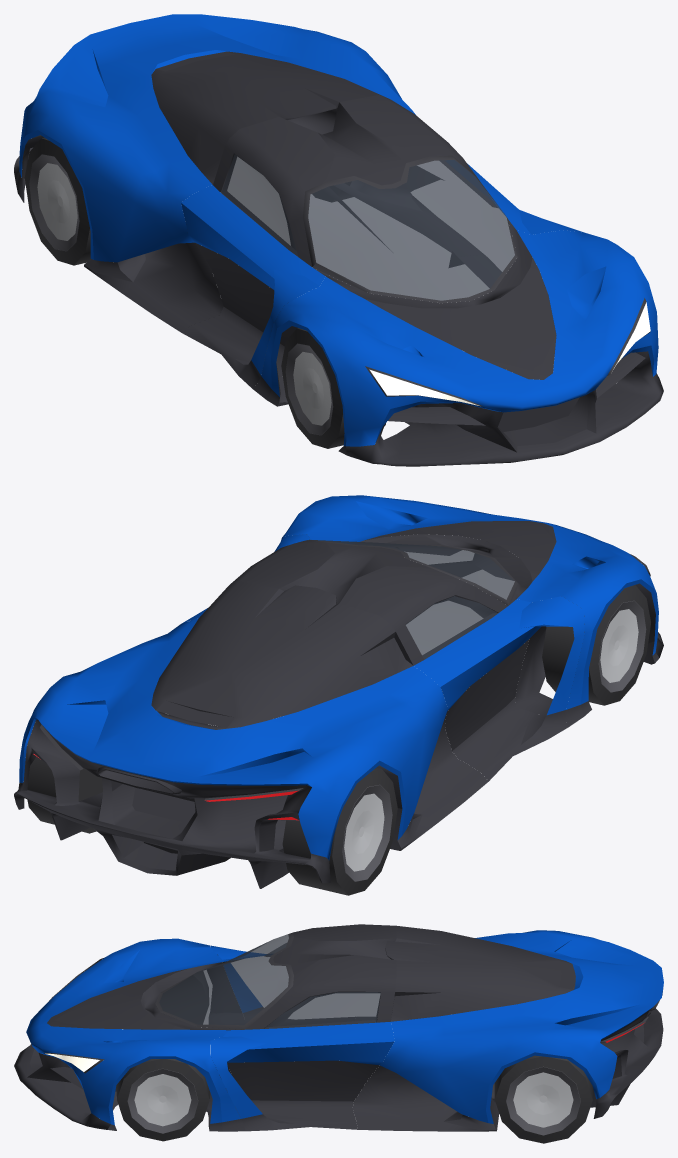
Rendered from zenvo.glb.
3 renders of one model, top to bottom at view 1: azimuth 30°, elevation 25°; view 2: azimuth 150°, elevation 25°; view 3: azimuth 270°, elevation 25°, orthographic. The views are drawn at different scales.
Visible parts, largest first — view 1: paint, body, glass, trim, tyre_RR, rim_metal_RR, tyre_FR, rim_metal_FR, headlights, rim_dark_RR, rim_dark_FR; view 2: body, paint, glass, tyre_RR, tyre_FR, rim_metal_RR, rim_metal_FR, tyre_RL, trim, rim_dark_RR, rim_dark_FR; view 3: body, paint, glass, tyre_RL, tyre_FL, rim_metal_RL, rim_metal_FL, tyre_FR, rim_dark_RL, trim, rim_dark_FL, headlights.
Part boxes in pixels (x1,y1,x2,y2): paint: [19, 14, 658, 446]; body: [14, 51, 663, 466]; glass: [221, 154, 514, 300]; trim: [303, 155, 650, 406]; tyre_RR: [24, 137, 90, 265]; rim_metal_RR: [37, 163, 77, 240]; tyre_FR: [281, 328, 385, 448]; rim_metal_FR: [293, 352, 331, 425]; headlights: [369, 302, 650, 405]; rim_dark_RR: [29, 154, 79, 251]; rim_dark_FR: [285, 343, 333, 435]; body: [14, 521, 663, 888]; paint: [19, 495, 658, 860]; glass: [314, 540, 514, 659]; tyre_RR: [282, 767, 397, 895]; tyre_FR: [542, 585, 650, 705]; rim_metal_RR: [344, 793, 384, 871]; rim_metal_FR: [600, 609, 638, 682]; tyre_RL: [27, 757, 102, 833]; trim: [40, 539, 650, 800]; rim_dark_RR: [342, 784, 392, 881]; rim_dark_FR: [598, 600, 646, 692]; body: [14, 924, 663, 1131]; paint: [26, 930, 663, 1125]; glass: [159, 934, 380, 1028]; tyre_RL: [494, 1055, 593, 1143]; tyre_FL: [116, 1059, 209, 1141]; rim_metal_RL: [513, 1072, 573, 1127]; rim_metal_FL: [134, 1074, 191, 1126]; tyre_FR: [141, 971, 208, 1029]; rim_dark_RL: [506, 1066, 580, 1135]; trim: [44, 932, 645, 1073]; rim_dark_FL: [127, 1068, 198, 1133]; headlights: [45, 1053, 99, 1071].
Size of the model in its own units: 2.02 by 1.14 by 4.79.
